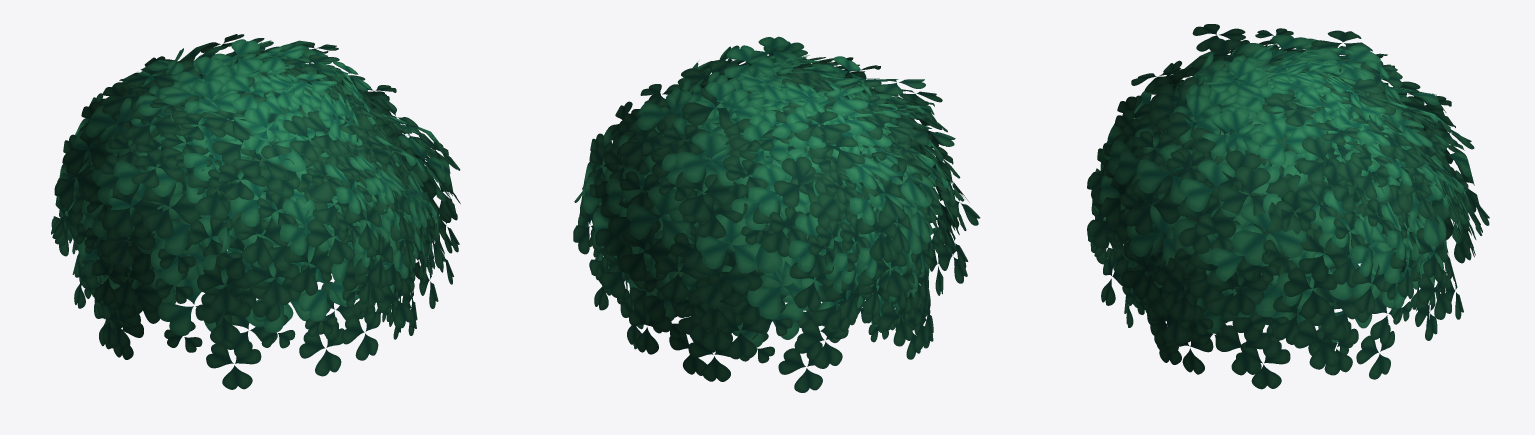
Rendered from Bush_03.fbx.
The picture shows the model from 3 angles, left to right: view 1: azimuth 30°, elevation 25°; view 2: azimuth 150°, elevation 25°; view 3: azimuth 270°, elevation 25°; orthographic projection.
Parts seen in each view (by area): view 1: Plane.009; view 2: Plane.009; view 3: Plane.009.
Part boxes in pixels (<box>): Plane.009: <box>51,34,460,389</box>; Plane.009: <box>573,36,980,392</box>; Plane.009: <box>1087,24,1489,389</box>.
Size of the model in its own units: 278 by 204 by 274.
